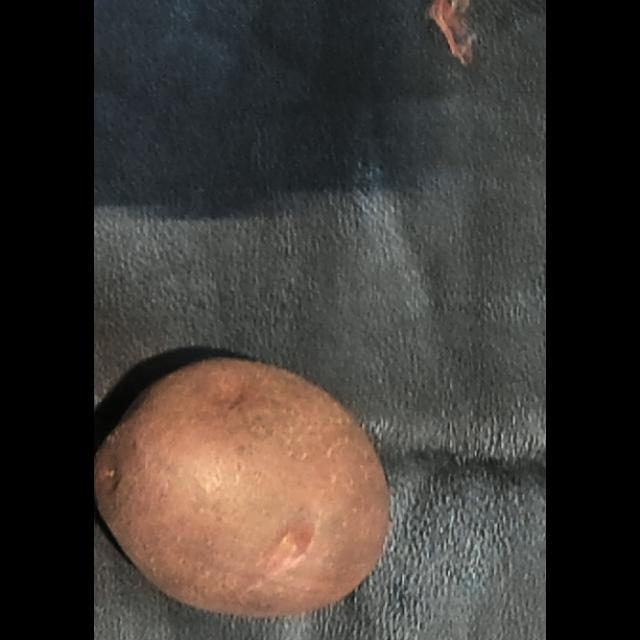Diseased-fungal potato: (94, 338, 413, 632)
